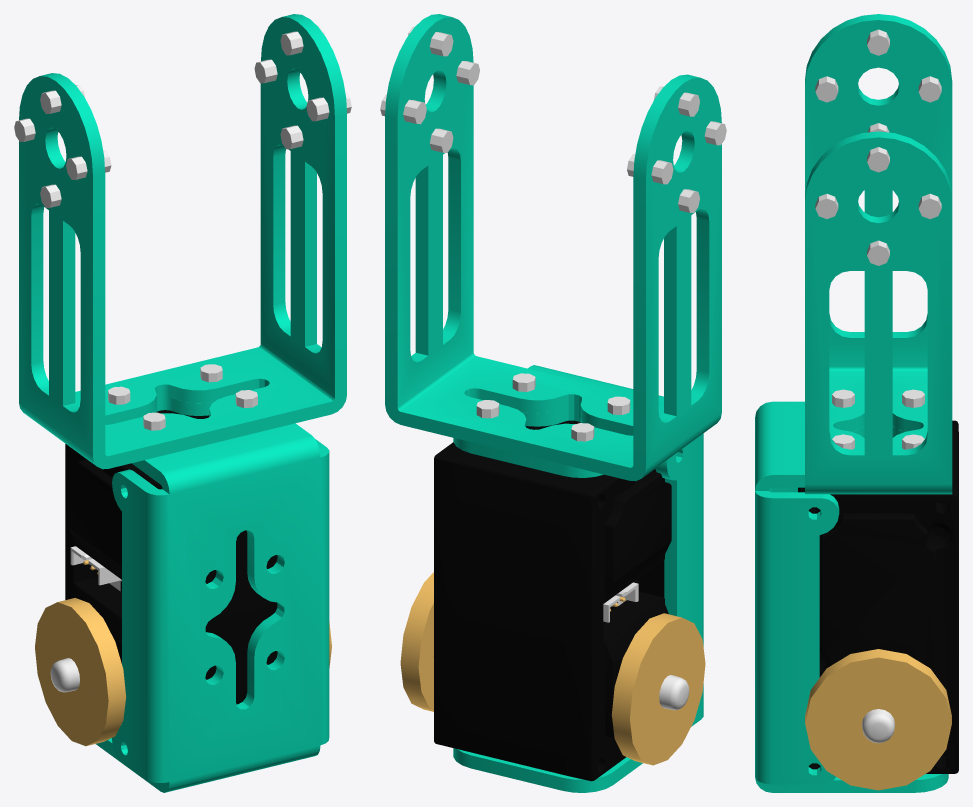
Rendered from arm3.gltf.
The picture shows the model from 3 angles, left to right: view 1: azimuth 30°, elevation 25°; view 2: azimuth 150°, elevation 25°; view 3: azimuth 270°, elevation 25°; orthographic projection. The views are drawn at different scales.
Parts seen in each view (by area): view 1: Arm3; view 2: Arm3; view 3: Arm3.
Boxes of the visible parts, left/top/right/bottom form: Arm3: left=14, top=14, right=351, bottom=792; Arm3: left=380, top=14, right=726, bottom=792; Arm3: left=755, top=14, right=958, bottom=792.
Size of the model in its own units: 1.77 by 4.21 by 1.14.
